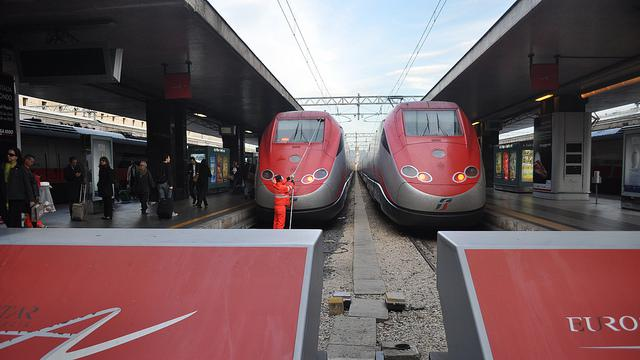Train: (357, 101, 487, 230), (252, 113, 360, 225)
